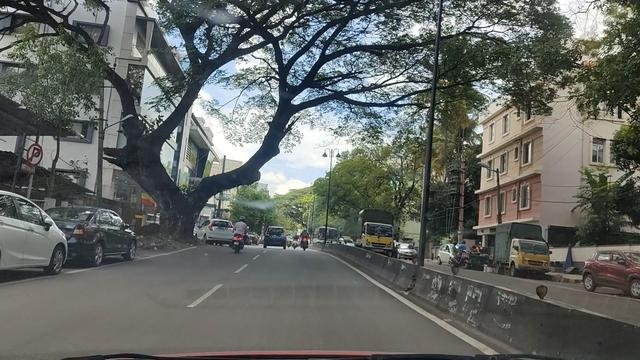LMV: (39, 206, 140, 265)
